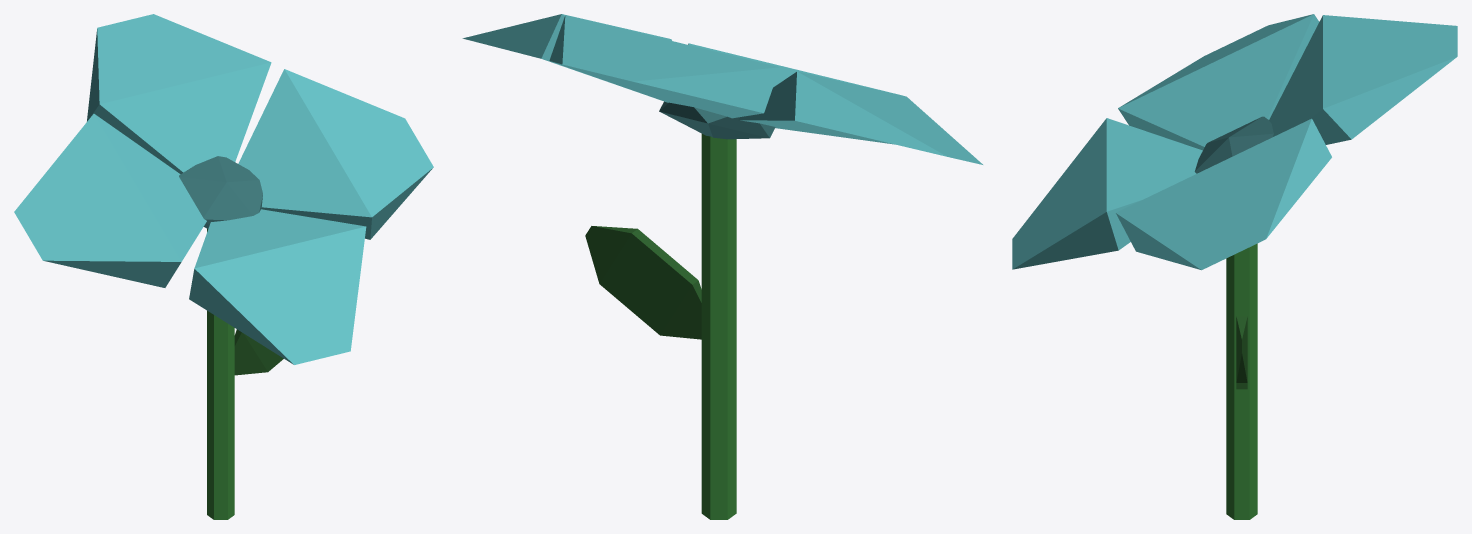
Rendered from Flower_2_Cyan.fbx.
3 views of the same model, side by side, from view 1: azimuth 30°, elevation 25°; view 2: azimuth 150°, elevation 25°; view 3: azimuth 270°, elevation 25° (orthographic). The views are drawn at different scales.
Parts seen in each view (by area): view 1: Flower_2_Cyan; view 2: Flower_2_Cyan; view 3: Flower_2_Cyan.
Boxes of the visible parts, box(x1,y1,x2,y2) form: Flower_2_Cyan: box(14, 14, 433, 519); Flower_2_Cyan: box(462, 14, 982, 519); Flower_2_Cyan: box(1012, 14, 1457, 519).
Size of the model in its own units: 45.18 by 46.83 by 39.92.
